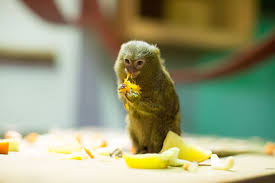PygmyMarmoset: (107, 40, 181, 146)
